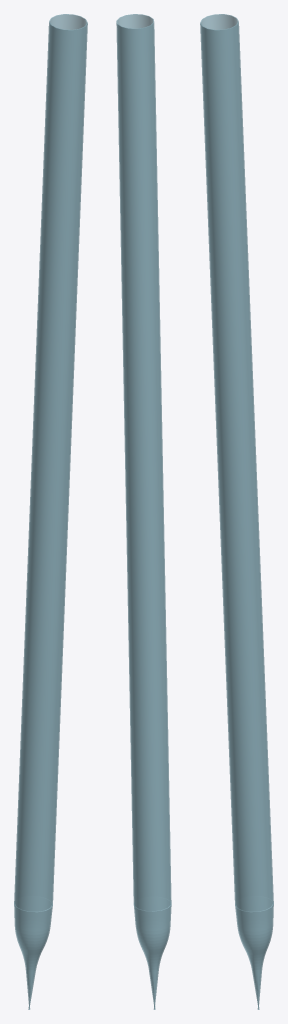
File: chemical_DropperT.FBX
3 renders of one model, left to right at view 1: azimuth 90°, elevation 25°; view 2: azimuth 210°, elevation 25°; view 3: azimuth 270°, elevation 25°, orthographic.
Visible parts, largest first — view 1: chemical_Dropper001; view 2: chemical_Dropper001; view 3: chemical_Dropper001.
Boxes of the visible parts, box(x1,y1,x2,y2) form: chemical_Dropper001: box(14, 14, 87, 1009); chemical_Dropper001: box(116, 14, 171, 1009); chemical_Dropper001: box(200, 14, 273, 1009).
Size of the model in its own units: 0.2875 by 8.27 by 0.5599.
